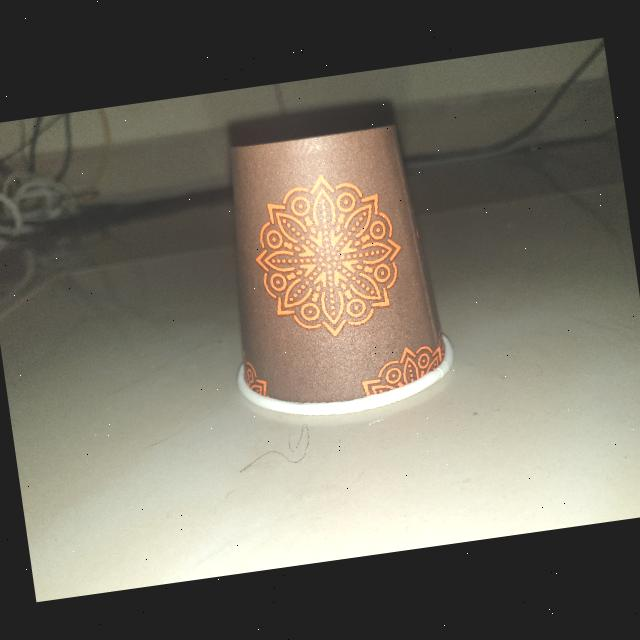trash: (204, 112, 464, 432)
